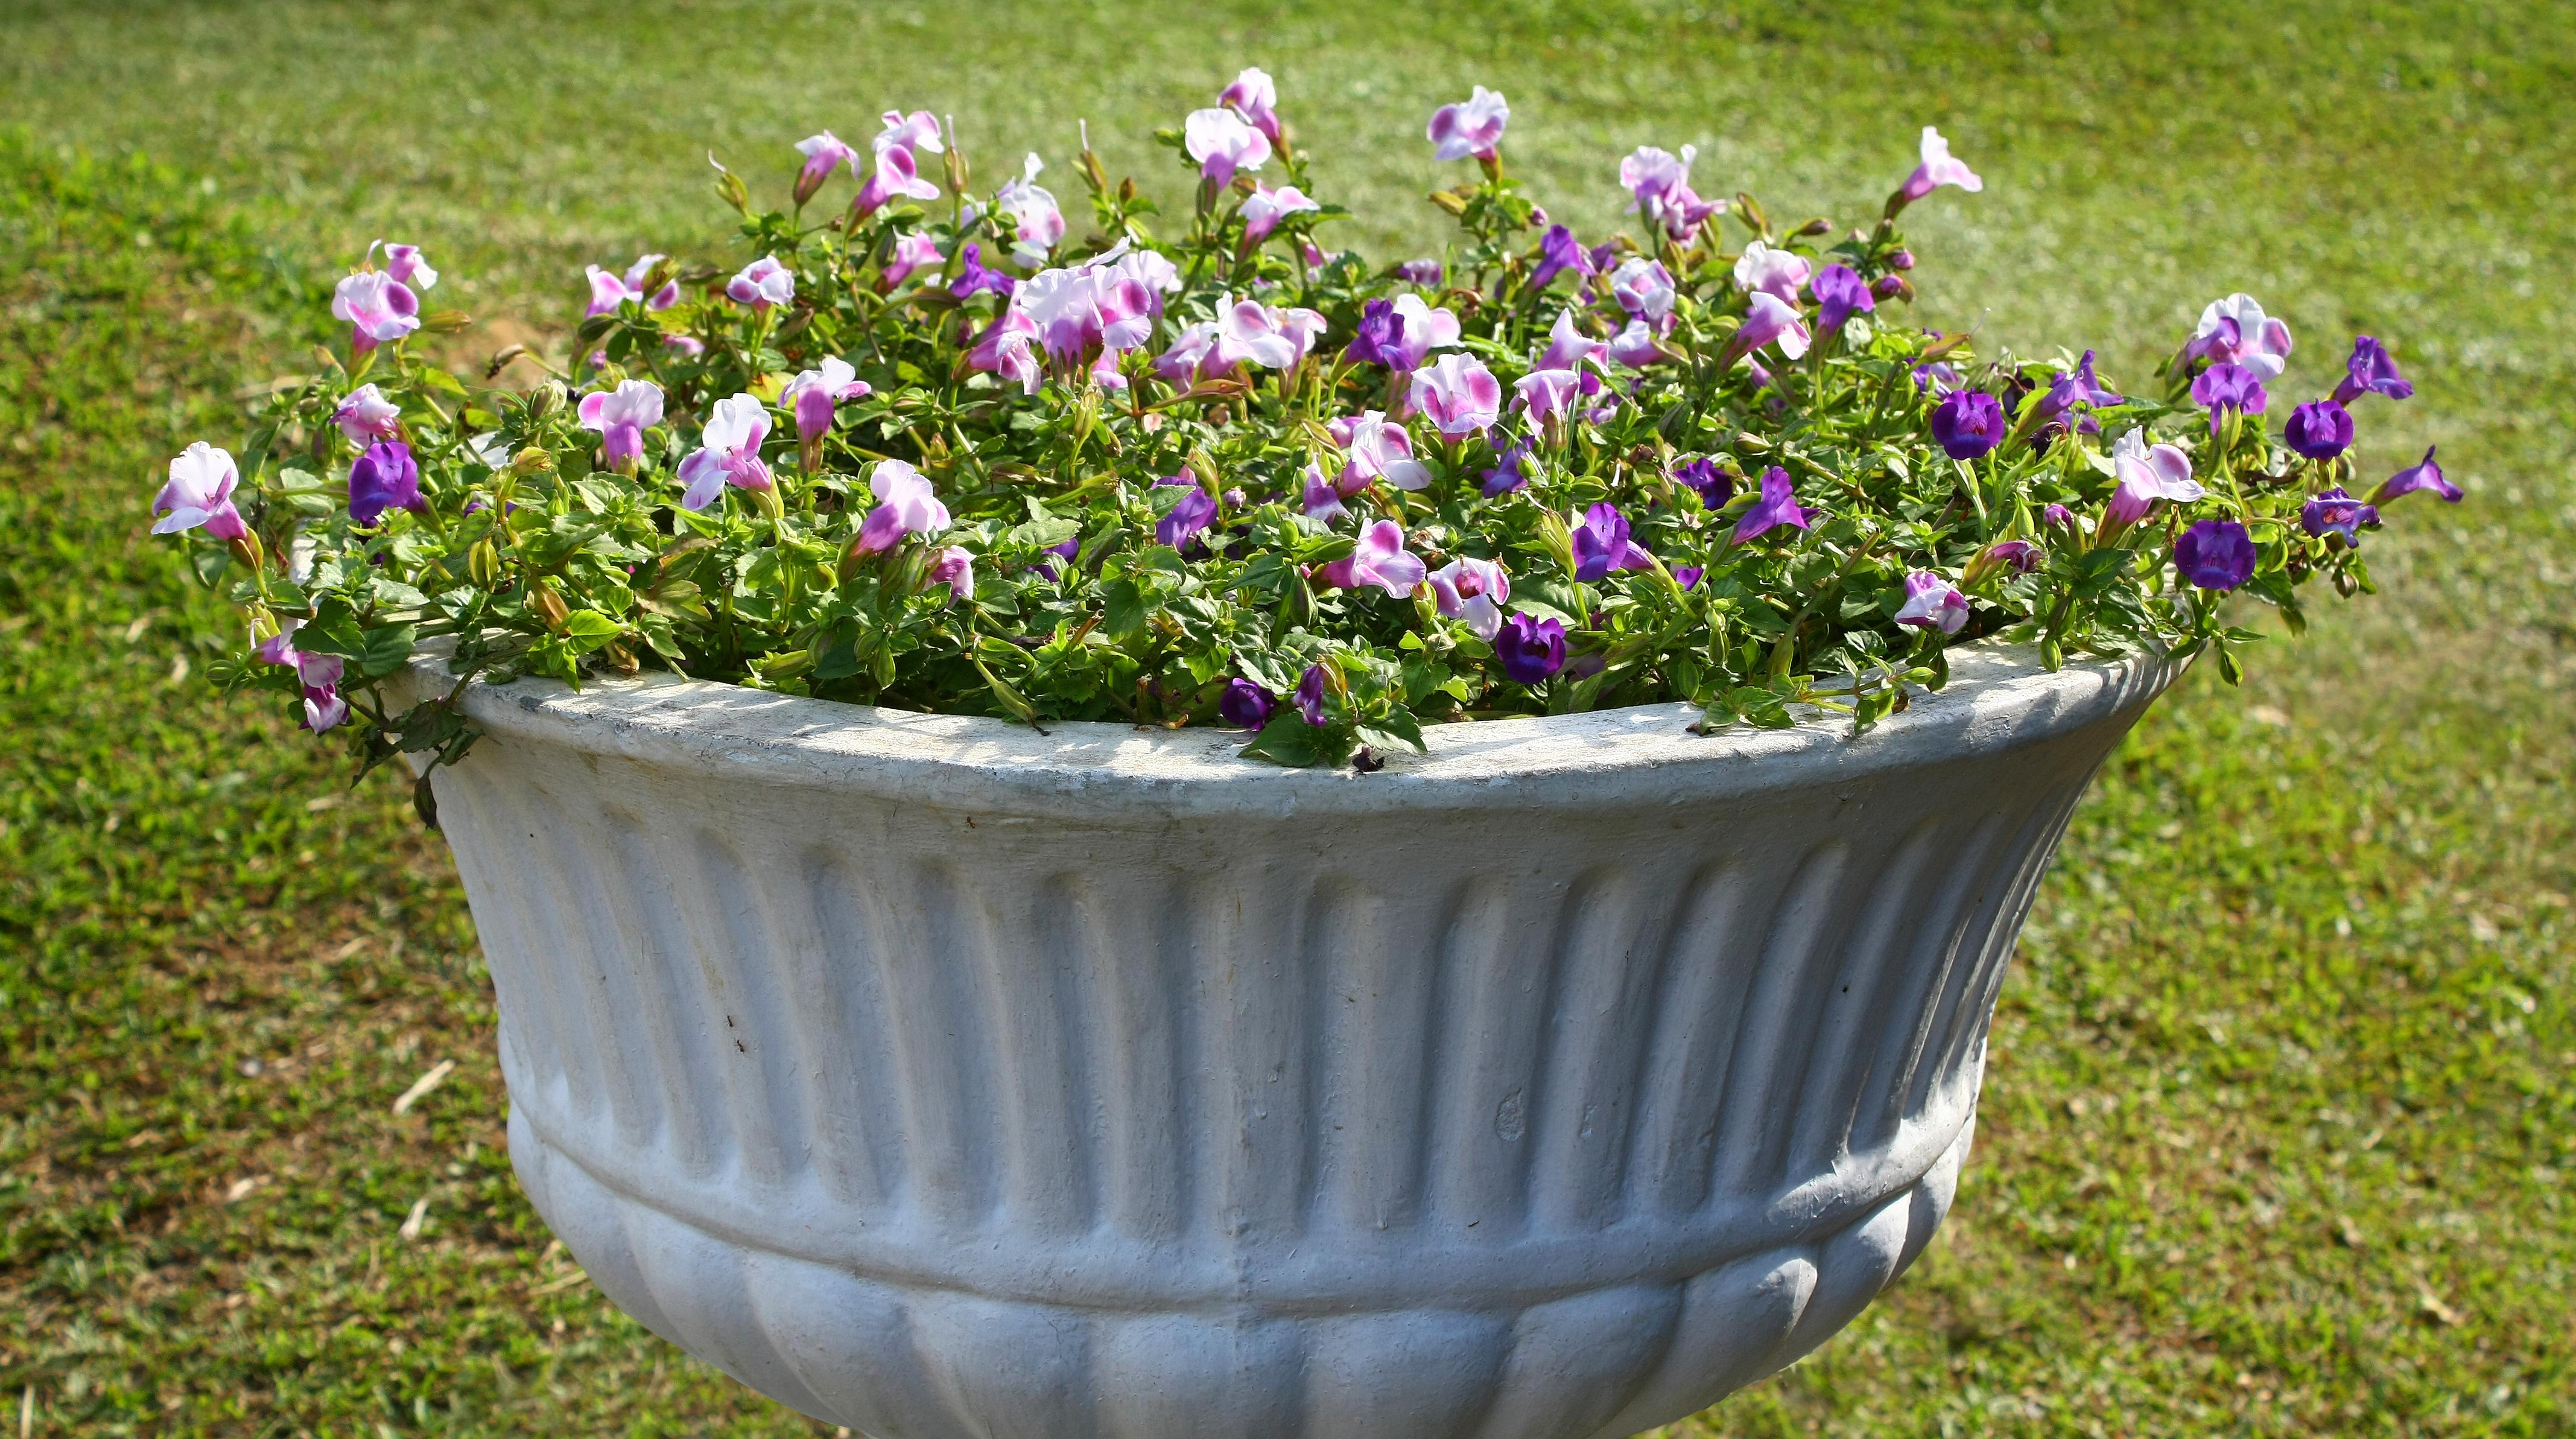flowerPot: (225, 586, 2250, 1439)
